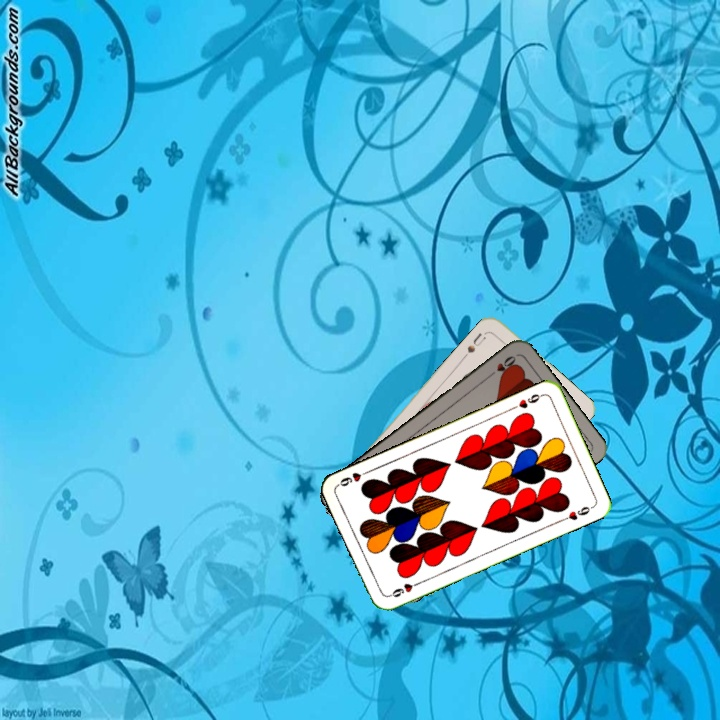H9: (384, 578, 423, 600), (508, 390, 546, 412)
HO: (484, 351, 519, 381)
SU: (463, 329, 489, 356)
